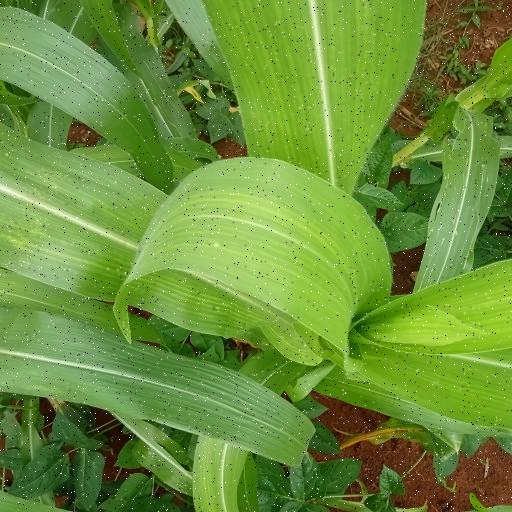Corn_Brown_Spots: (140, 143, 512, 430)
